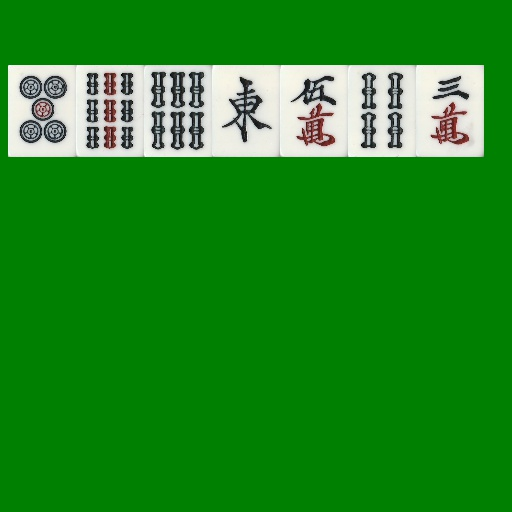3m: (416, 65, 484, 157)
4s: (348, 65, 416, 157)
5m: (280, 65, 348, 157)
5p: (8, 65, 76, 157)
6s: (144, 65, 212, 157)
9s: (76, 65, 144, 157)
east: (212, 65, 280, 157)
